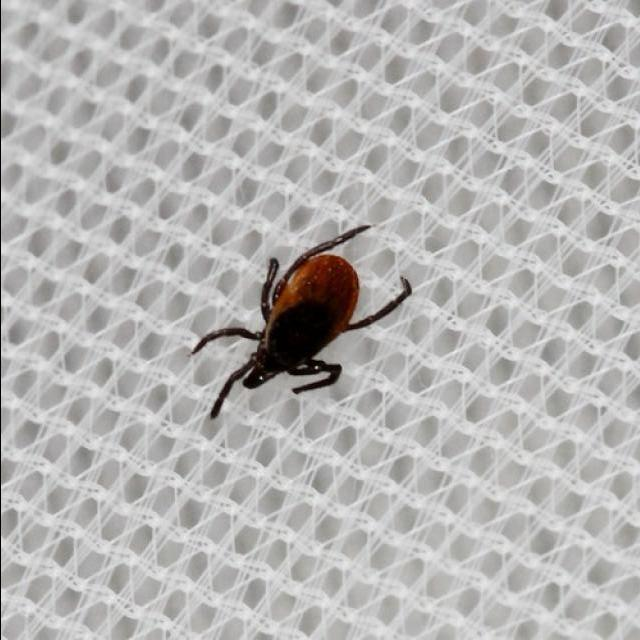Ixodes Ricinus-F: (191, 225, 412, 420)
